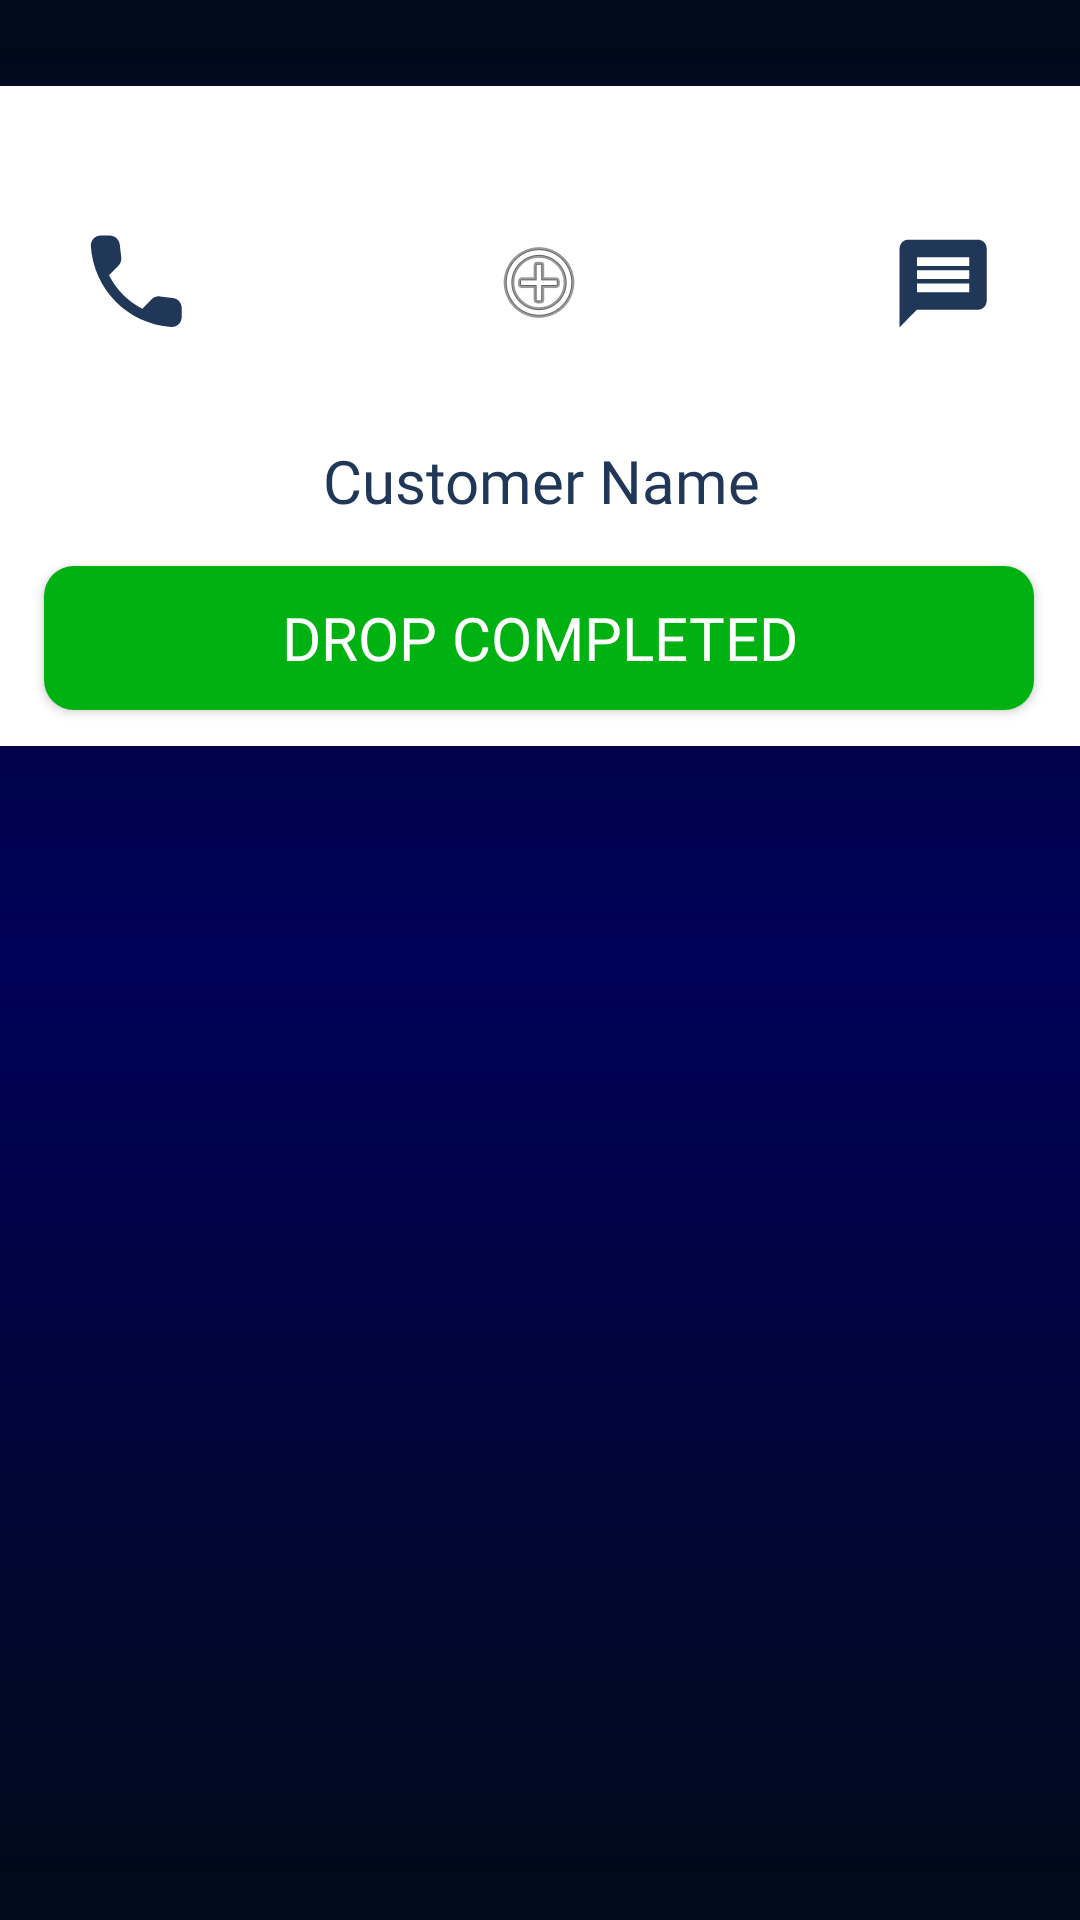

Icons on this 1080px×1920px Android screen, each with its box as (x1, y1, x2, y2):
add button: (503, 247, 575, 318)
call icon: (90, 235, 182, 327)
message icon: (899, 239, 987, 327)
